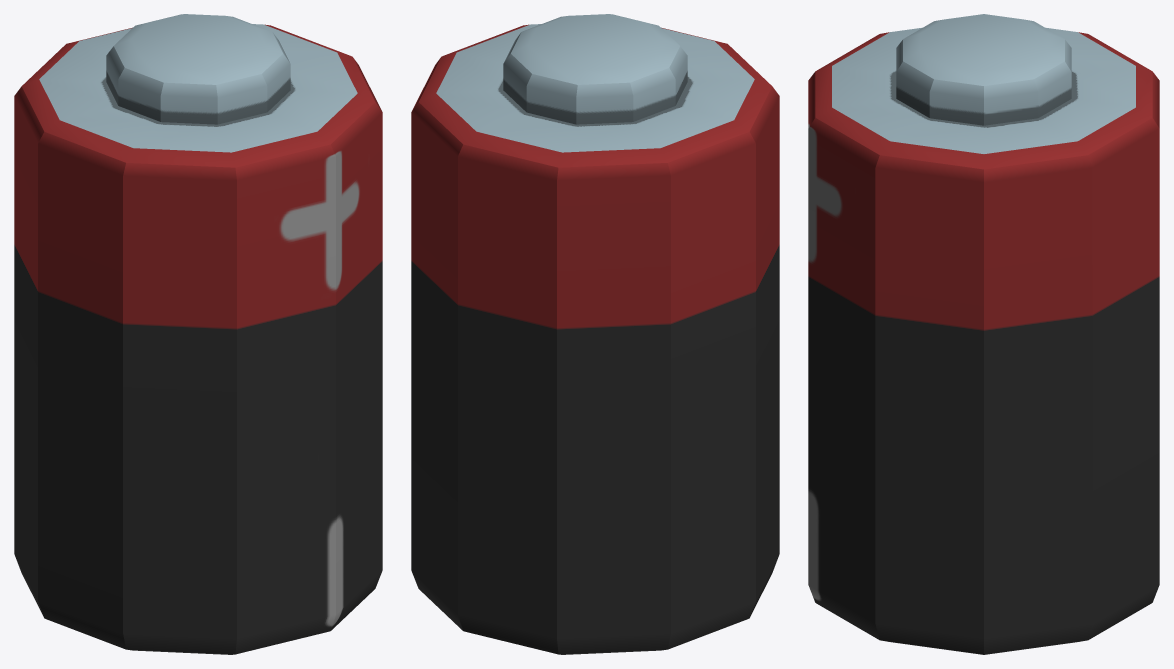
File: M_Battery_OR.fbx
3 views of the same model, side by side, from view 1: azimuth 30°, elevation 25°; view 2: azimuth 150°, elevation 25°; view 3: azimuth 270°, elevation 25° (orthographic).
Parts seen in each view (by area): view 1: Battery_Body; view 2: Battery_Body; view 3: Battery_Body.
Part boxes in pixels (bbox=[...]): Battery_Body: bbox=[14, 14, 382, 654]; Battery_Body: bbox=[411, 14, 779, 654]; Battery_Body: bbox=[808, 14, 1159, 654].
Size of the model in its own units: 2 by 3.26 by 1.9.
Materials: 1 (1 with a texture image).
